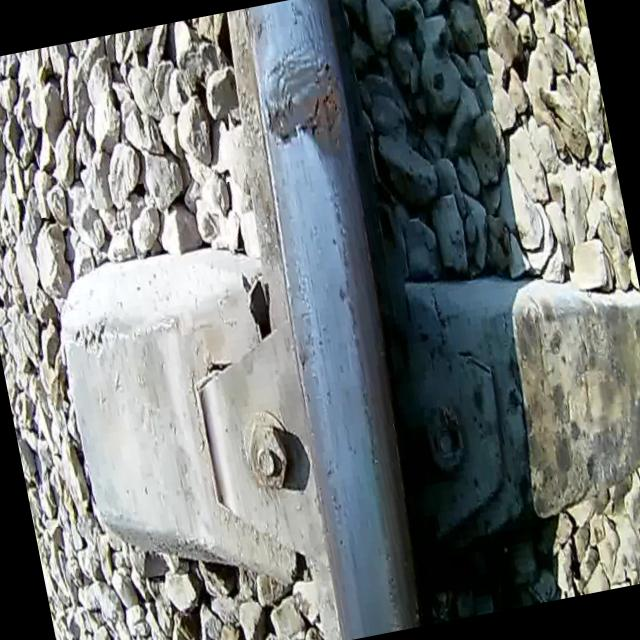Cracks: (242, 0, 340, 99)
Spallings: (262, 83, 348, 152)
Squats: (246, 39, 362, 182)
